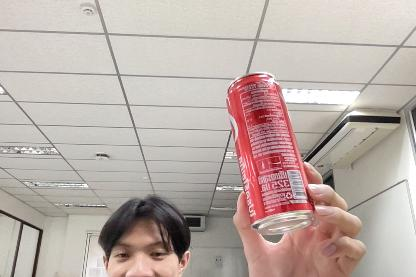Can: (224, 70, 318, 231)
